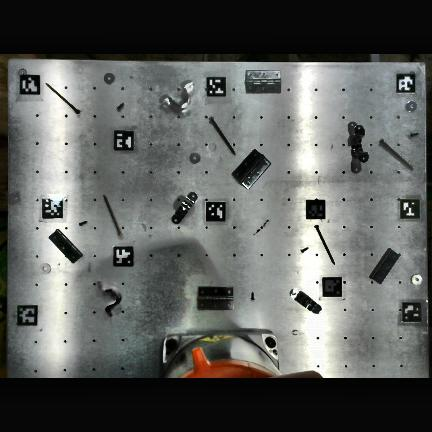black_screw: (117, 104, 124, 110), (78, 222, 87, 226), (410, 133, 419, 137), (300, 248, 307, 253), (252, 292, 254, 296)
clamp: (160, 83, 193, 112), (98, 281, 121, 315), (172, 193, 197, 224), (290, 289, 321, 313), (351, 125, 368, 162)
golden_screw: (46, 84, 80, 114), (381, 140, 413, 169), (210, 118, 234, 153), (315, 225, 334, 264), (104, 196, 122, 236)
hinge: (233, 150, 271, 188), (50, 229, 82, 263), (370, 249, 400, 283), (245, 70, 281, 94), (198, 287, 234, 310)
marker: (17, 304, 38, 325), (400, 198, 420, 219), (42, 198, 62, 218), (113, 246, 133, 266), (114, 130, 134, 150), (206, 75, 226, 95), (403, 300, 422, 321), (206, 201, 225, 222), (20, 75, 40, 94), (396, 73, 415, 93), (306, 200, 325, 219), (323, 278, 342, 296)
washer: (406, 102, 417, 112), (104, 73, 114, 84), (41, 264, 51, 274), (190, 153, 200, 163), (412, 275, 422, 284)
